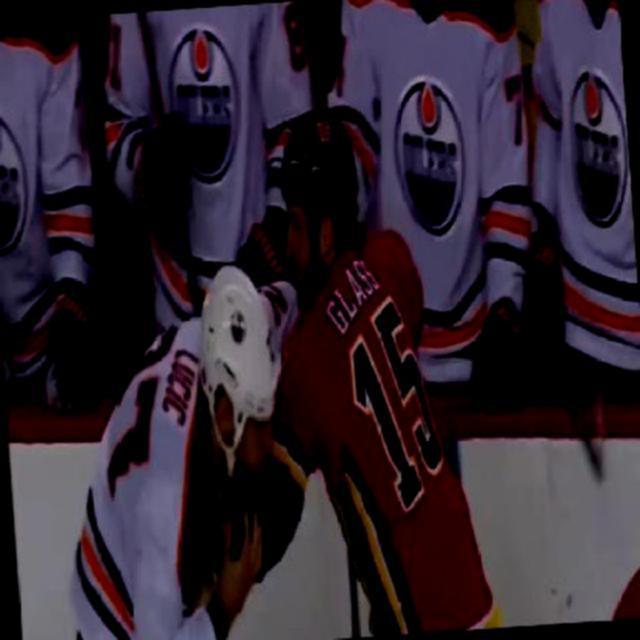fight: (51, 103, 467, 639)
